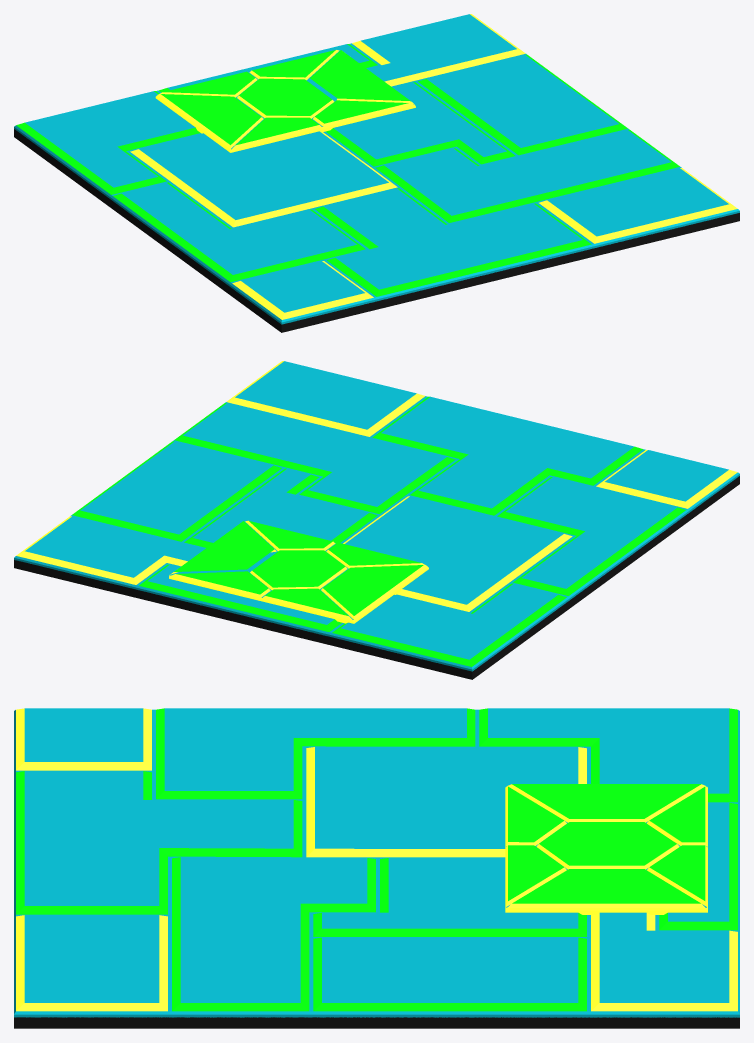
Rendered from floor_tier17.fbx.
The picture shows the model from 3 angles, top to bottom: view 1: azimuth 30°, elevation 25°; view 2: azimuth 150°, elevation 25°; view 3: azimuth 270°, elevation 25°; orthographic projection. The views are drawn at different scales.
Parts seen in each view (by area): view 1: Cube.002, Cube, Cube.001; view 2: Cube.002, Cube, Cube.001; view 3: Cube.002, Cube, Cube.001.
Boxes of the visible parts, bbox=[...] form: Cube.002: bbox=[14, 14, 739, 324]; Cube: bbox=[155, 49, 415, 152]; Cube.001: bbox=[14, 129, 739, 332]; Cube.002: bbox=[14, 361, 739, 671]; Cube: bbox=[169, 520, 428, 623]; Cube.001: bbox=[14, 476, 739, 679]; Cube.002: bbox=[14, 708, 739, 1017]; Cube: bbox=[505, 784, 707, 914]; Cube.001: bbox=[14, 1017, 739, 1028].
Bounding box in the file's own units: 654 × 28.8 × 662.
